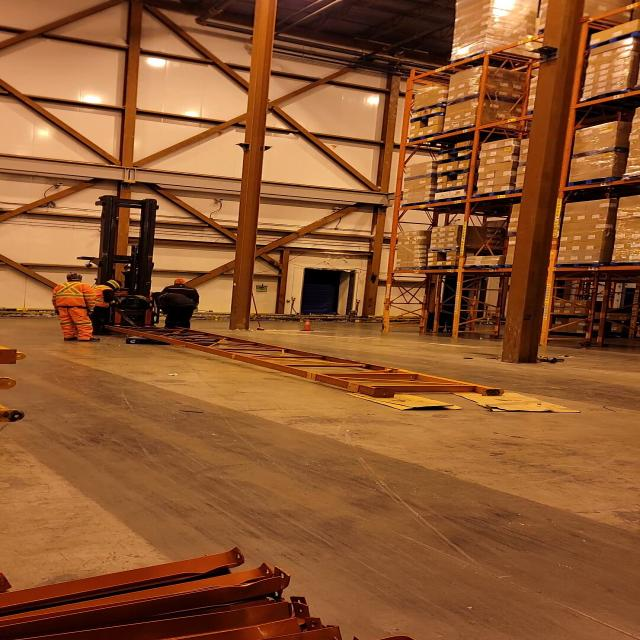forklift: (73, 199, 185, 334)
human: (48, 272, 103, 341), (86, 276, 124, 337), (150, 290, 195, 333), (165, 280, 202, 328)
objectofinterest: (89, 316, 508, 398), (447, 382, 583, 416), (343, 385, 465, 412), (122, 333, 176, 350)
